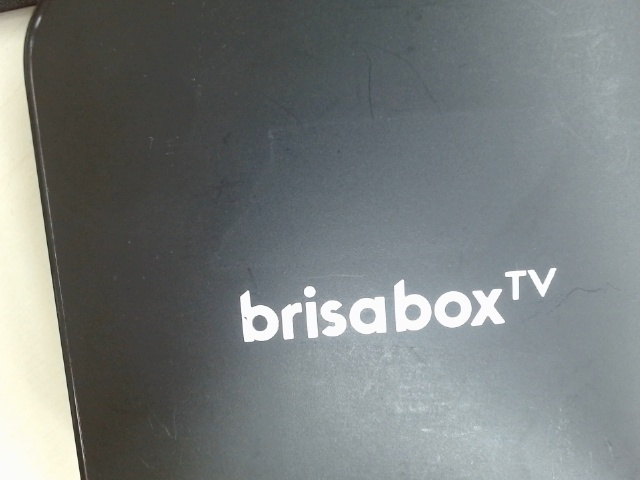AH_brisabox: (220, 255, 572, 347)
